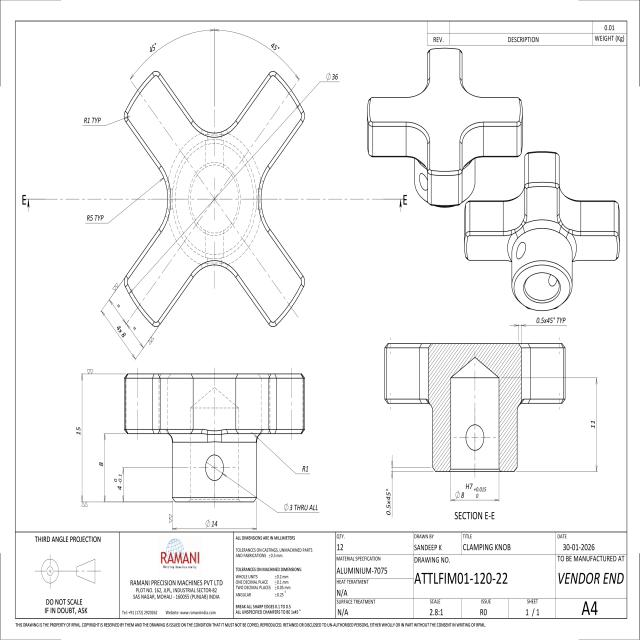dimension: (454, 481, 488, 500), (282, 501, 320, 513), (534, 314, 568, 326), (114, 322, 129, 342), (384, 487, 392, 518), (112, 472, 122, 493), (324, 71, 341, 83), (270, 39, 283, 54), (148, 40, 160, 56), (83, 115, 102, 125), (86, 212, 105, 222), (203, 518, 219, 528), (589, 418, 597, 431), (75, 423, 81, 438), (301, 464, 310, 474), (98, 460, 104, 470)
